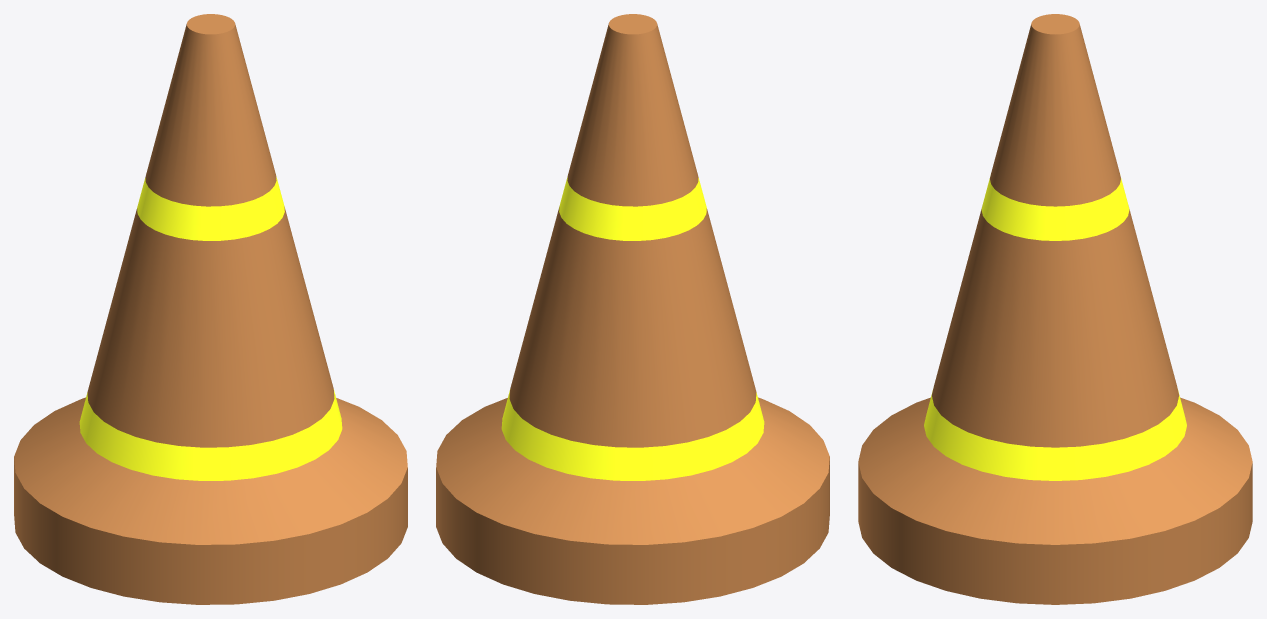
Rendered from traffic_cone.fbx.
3 renders of one model, left to right at view 1: azimuth 30°, elevation 25°; view 2: azimuth 150°, elevation 25°; view 3: azimuth 270°, elevation 25°, orthographic.
Visible parts, largest first — view 1: traffic_cone; view 2: traffic_cone; view 3: traffic_cone.
Part boxes in pixels (x1,y1,x2,y2): traffic_cone: [14, 14, 407, 604]; traffic_cone: [436, 14, 829, 604]; traffic_cone: [858, 14, 1252, 604].
Size of the model in its own units: 100 by 139 by 100.
